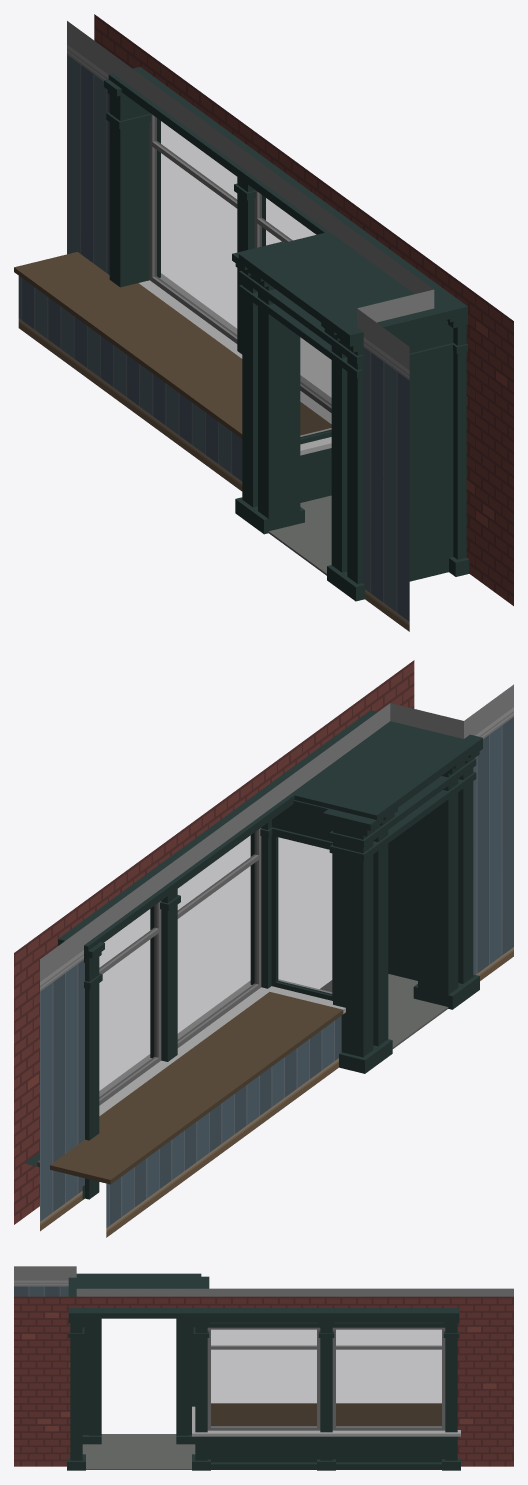
Rendered from SM_shopFront_02.glb.
3 views of the same model, one above another, from view 1: azimuth 30°, elevation 25°; view 2: azimuth 150°, elevation 25°; view 3: azimuth 270°, elevation 25° (orthographic). The views are drawn at different scales.
Visible parts, largest first — view 1: SM_shopFront_02; view 2: SM_shopFront_02; view 3: SM_shopFront_02.
Boxes of the visible parts, x1=… form: SM_shopFront_02: x1=14, y1=14, x2=513, y2=631; SM_shopFront_02: x1=14, y1=660, x2=513, y2=1237; SM_shopFront_02: x1=14, y1=1266, x2=513, y2=1470.
Size of the model in its own units: 1.5 by 3 by 8.
5 materials, 3 textured.
